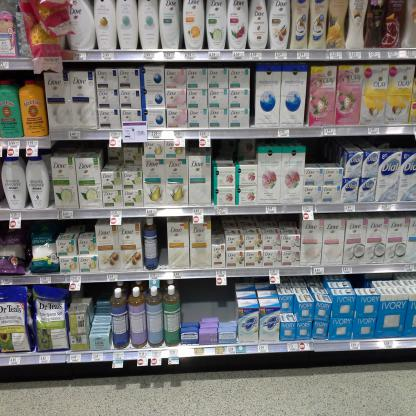Void: (182, 283, 229, 316), (214, 143, 256, 164), (308, 142, 341, 164), (56, 141, 104, 155), (159, 220, 167, 265), (215, 216, 222, 240)
